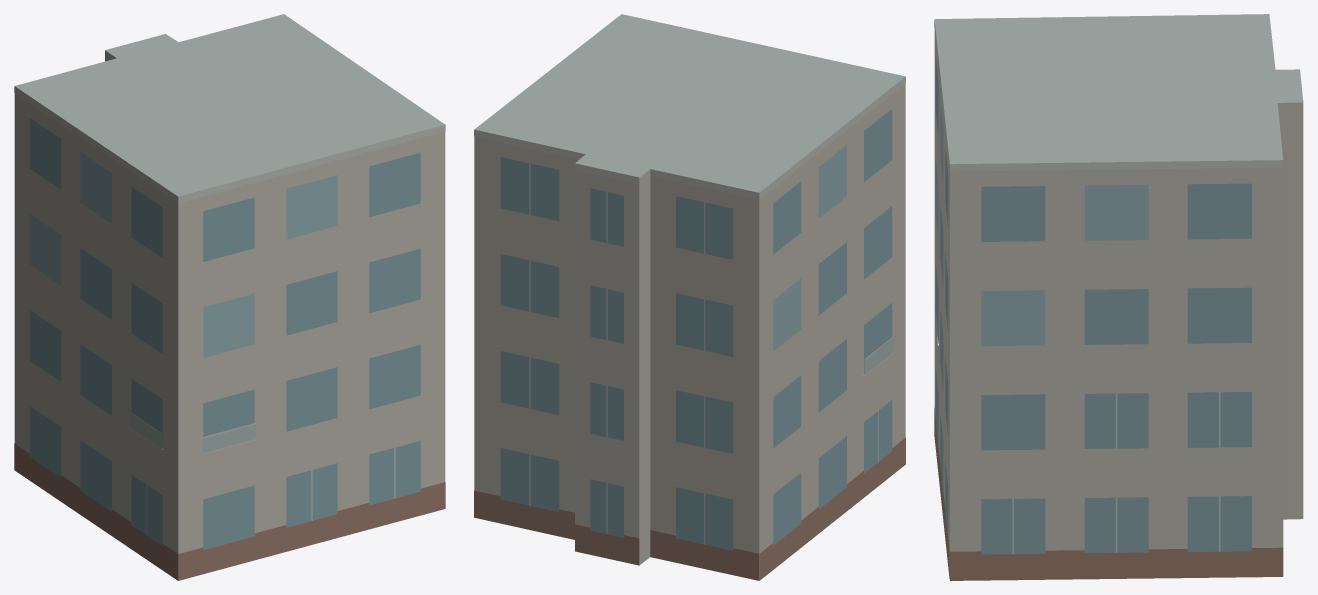
File: survey-upis-33044365.glb
The picture shows the model from 3 angles, left to right: view 1: azimuth 30°, elevation 25°; view 2: azimuth 150°, elevation 25°; view 3: azimuth 270°, elevation 25°; orthographic projection. The views are drawn at different scales.
Visible parts, largest first — view 1: survey-upis-33044365.tmp; view 2: survey-upis-33044365.tmp; view 3: survey-upis-33044365.tmp.
Part boxes in pixels (<box>): survey-upis-33044365.tmp: <box>14,14,445,580</box>; survey-upis-33044365.tmp: <box>474,14,905,580</box>; survey-upis-33044365.tmp: <box>934,14,1303,580</box>.
Size of the model in its own units: 10.57 by 13.67 by 10.98.
